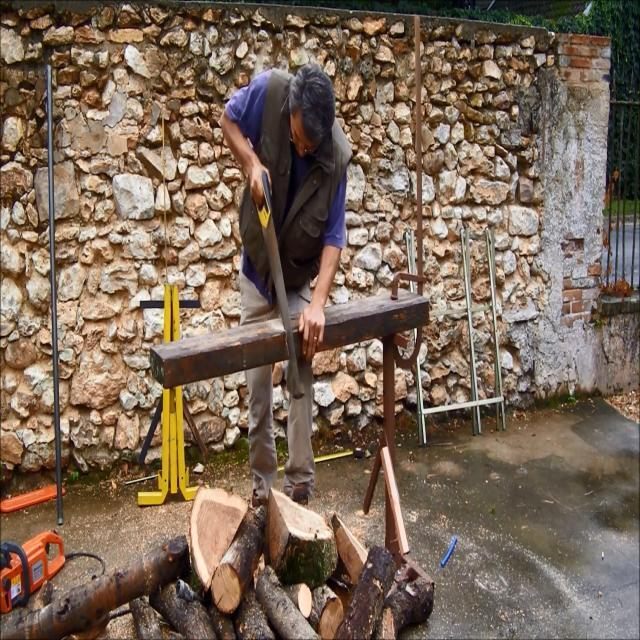Chainsaw: (0, 500, 78, 640)
